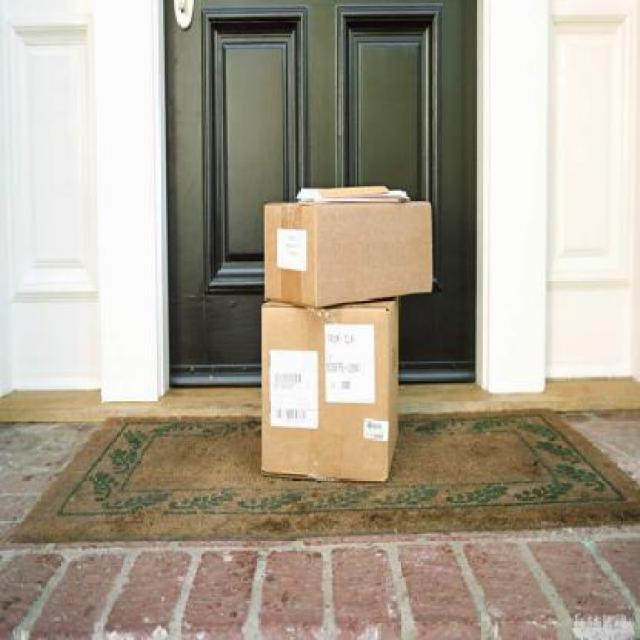box: (260, 299, 402, 479), (267, 202, 434, 308)
